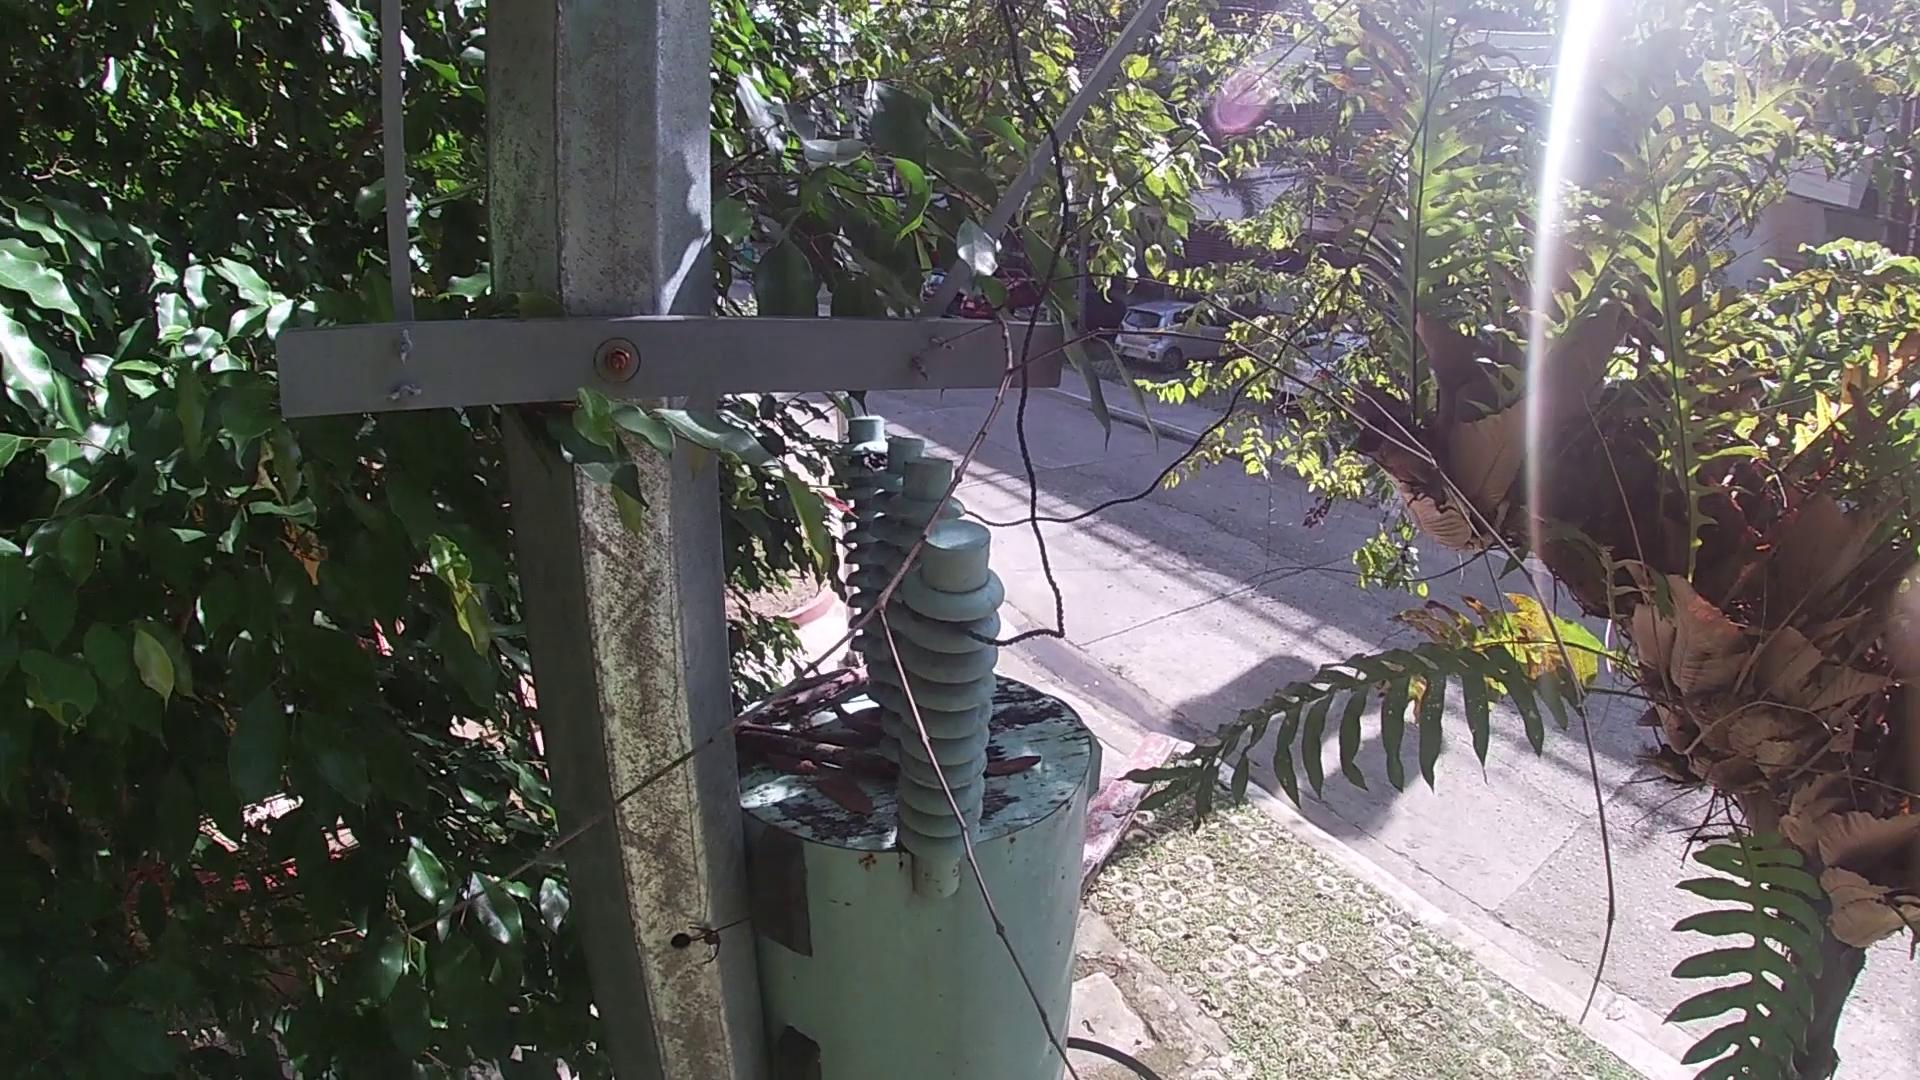leaf: (804, 775, 876, 818), (982, 753, 1044, 779), (760, 752, 822, 777)
tree branch: (394, 258, 1625, 1077), (736, 728, 901, 783), (771, 663, 872, 727)
